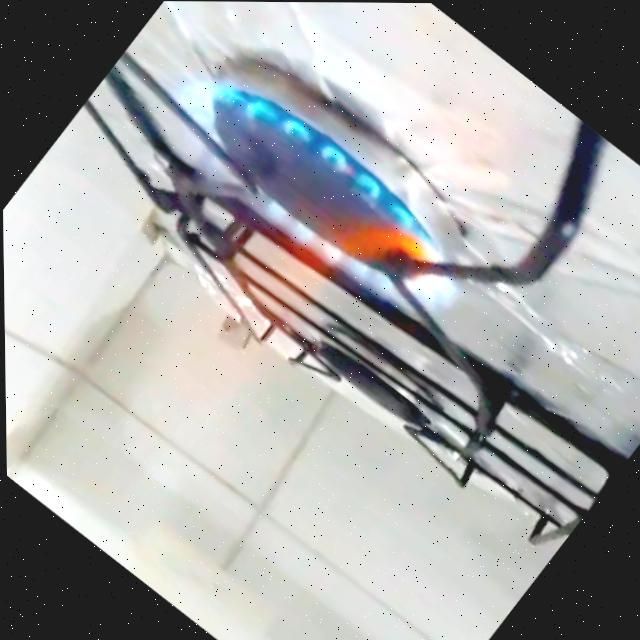Fire: (20, 38, 499, 504)
